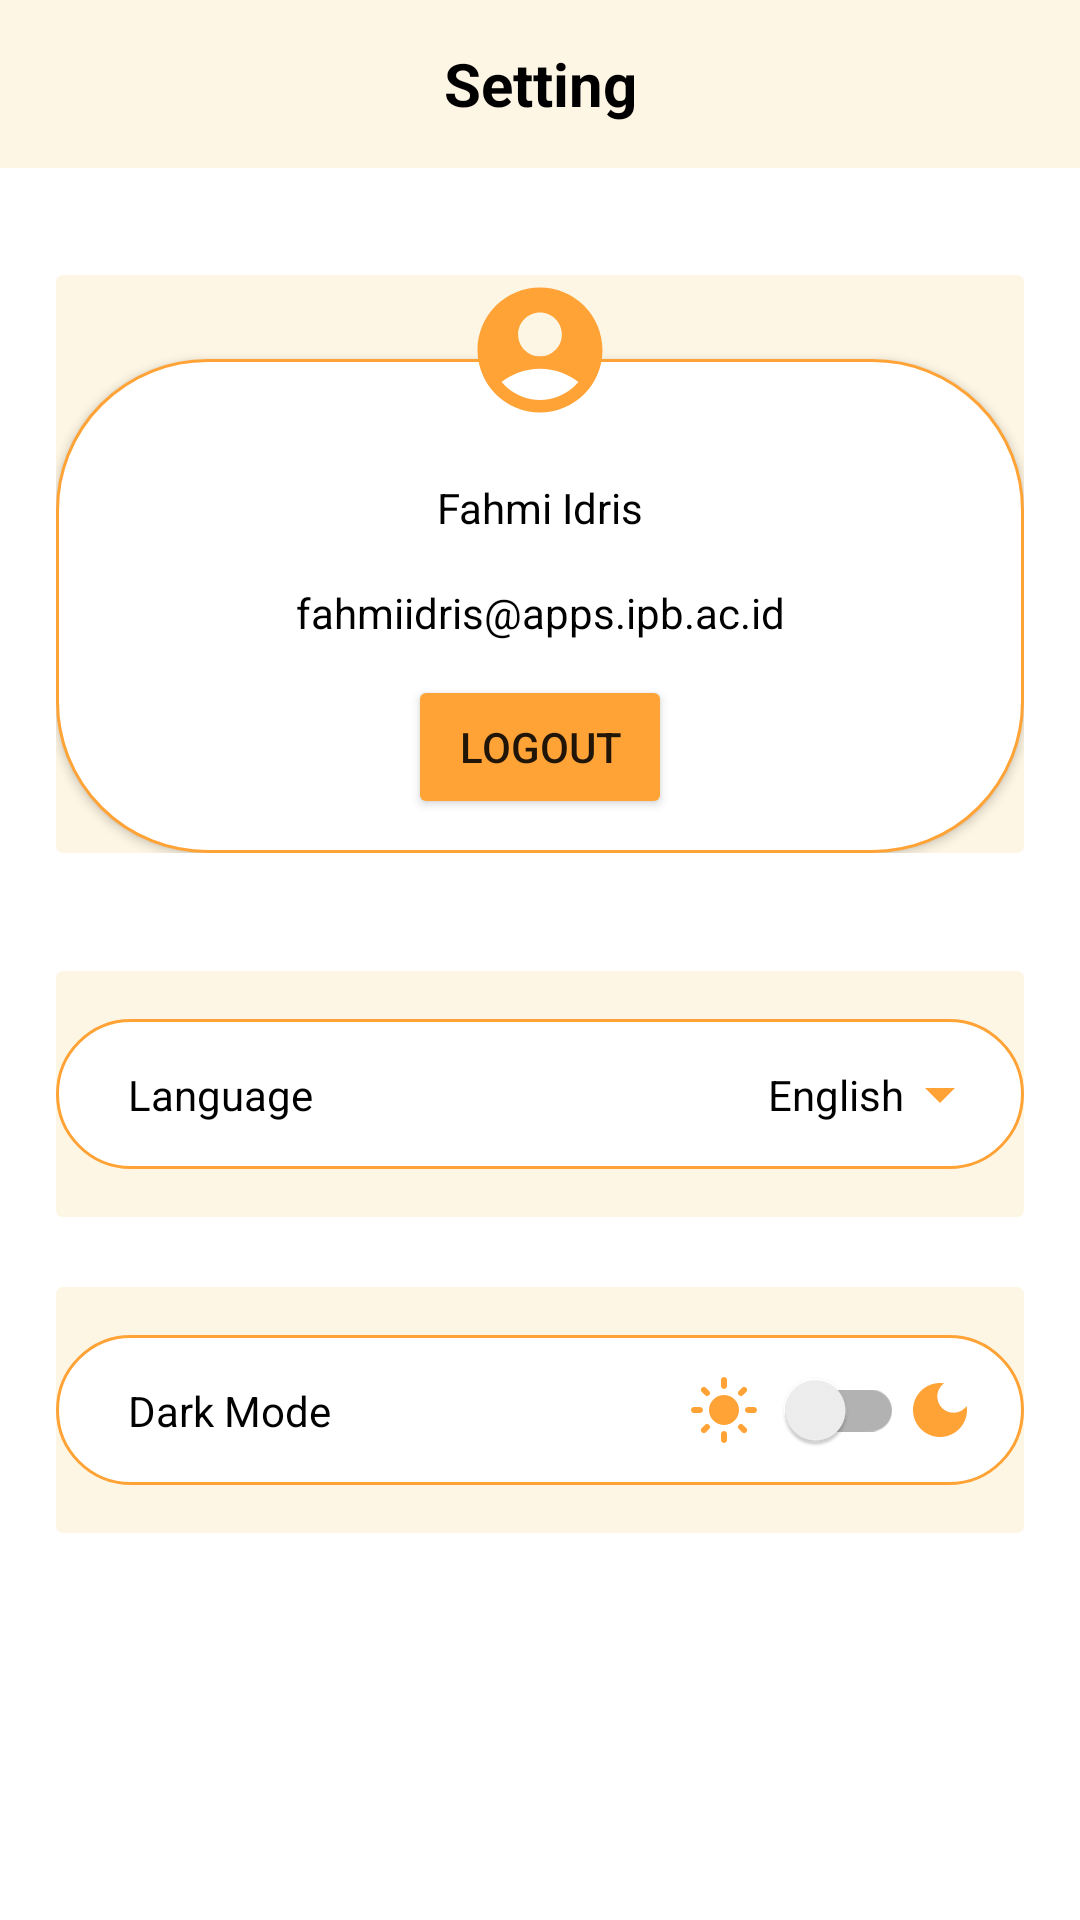

Screen size 1080 × 1920. Icon name, then its box in pixels as (x1, y1, x2, y2):
account circle: (465, 275, 615, 413)
Dark Mode: (913, 1383, 967, 1437)
Light Mode: (691, 1377, 757, 1443)
select: (925, 1088, 955, 1103)
